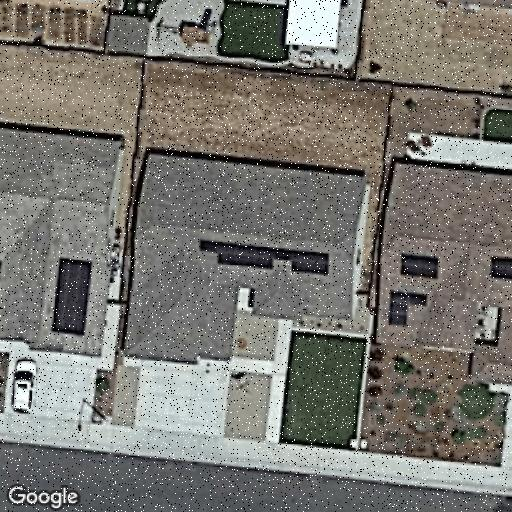solar-panel: (200, 238, 330, 276), (387, 252, 440, 326), (50, 256, 94, 338), (486, 252, 512, 282)
